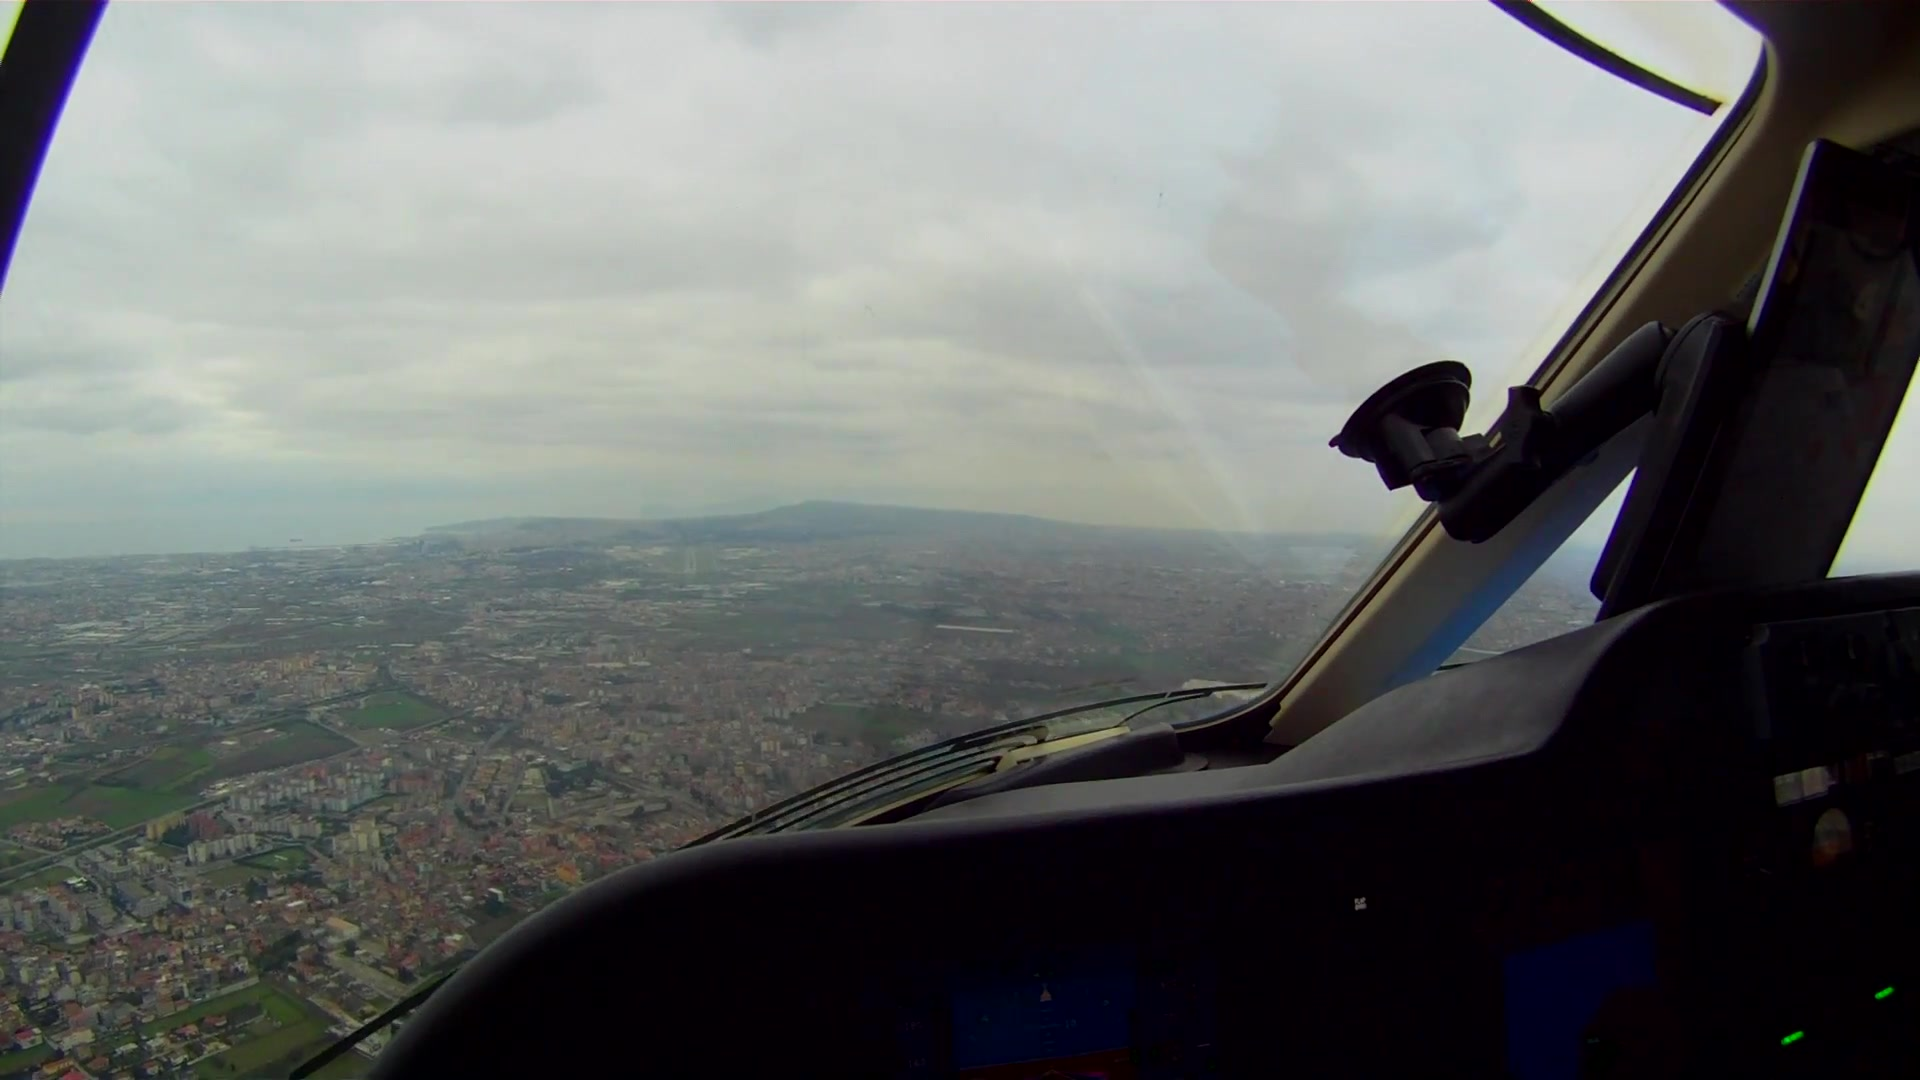runway: (682, 543, 698, 574)
